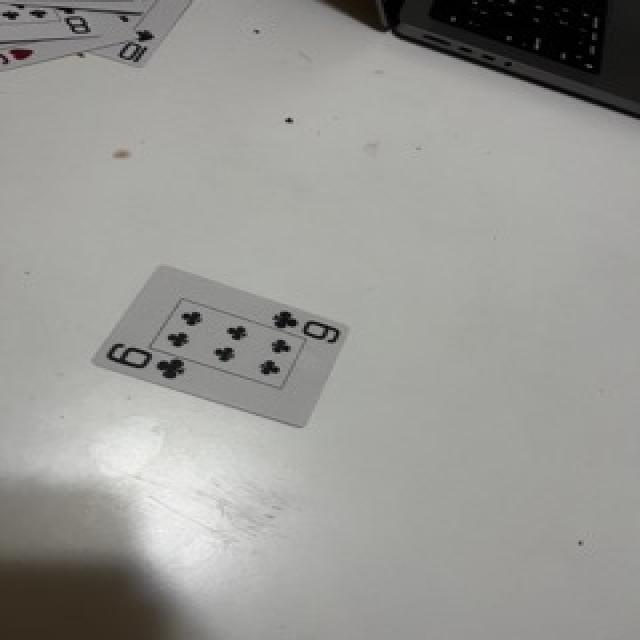6 of clubs: (93, 266, 347, 426)
